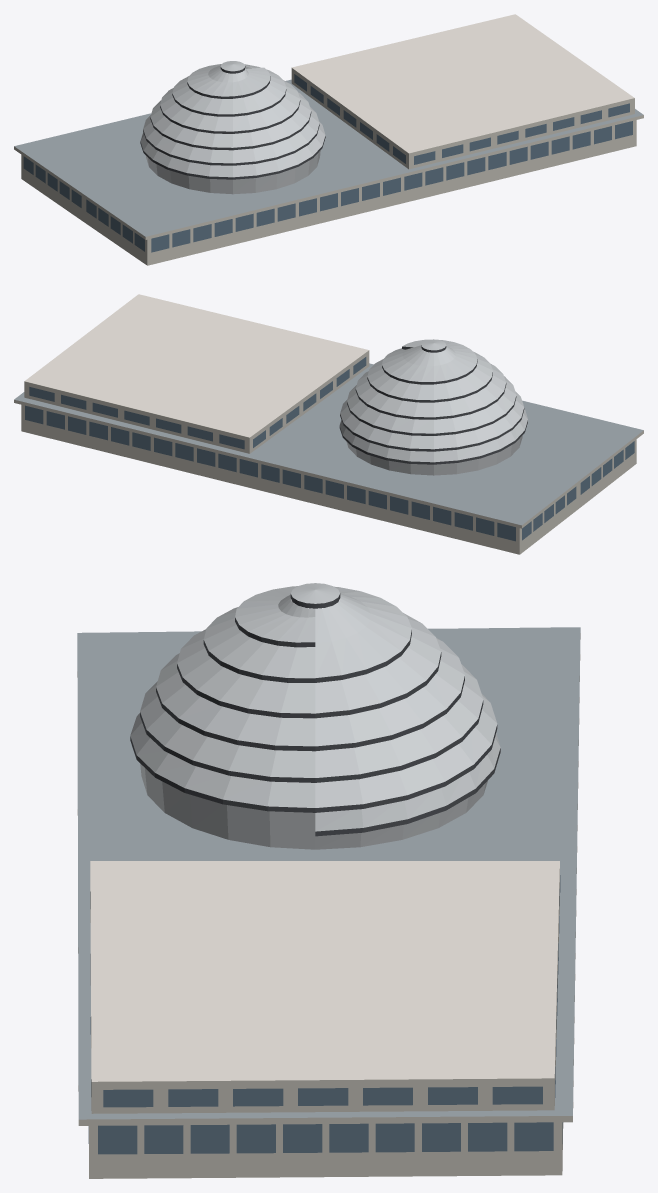
Rendered from kigali-convention-centre.glb.
The picture shows the model from 3 angles, top to bottom: view 1: azimuth 30°, elevation 25°; view 2: azimuth 150°, elevation 25°; view 3: azimuth 270°, elevation 25°; orthographic projection. The views are drawn at different scales.
Visible parts, largest first — view 1: kigali-convention-centre; view 2: kigali-convention-centre; view 3: kigali-convention-centre.
Part boxes in pixels (x1,y1,x2,y2): kigali-convention-centre: [14, 14, 643, 265]; kigali-convention-centre: [14, 294, 643, 554]; kigali-convention-centre: [77, 583, 580, 1178].
Size of the model in its own units: 198 by 47 by 85.6.
